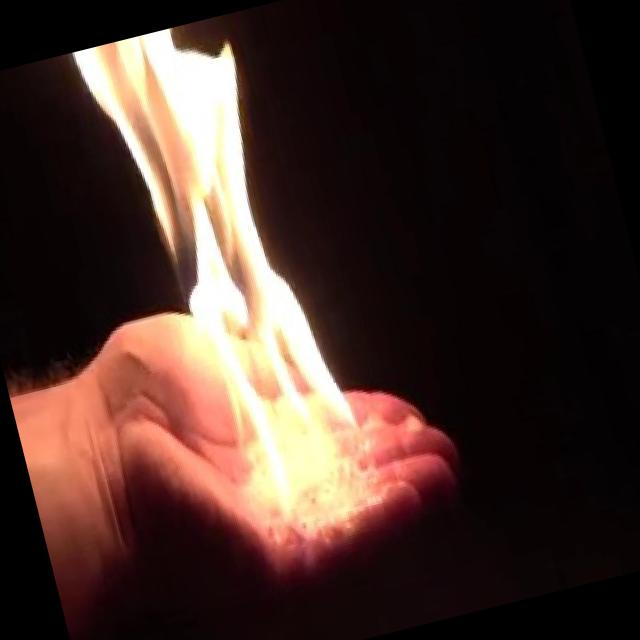Fire: (62, 5, 378, 528)
